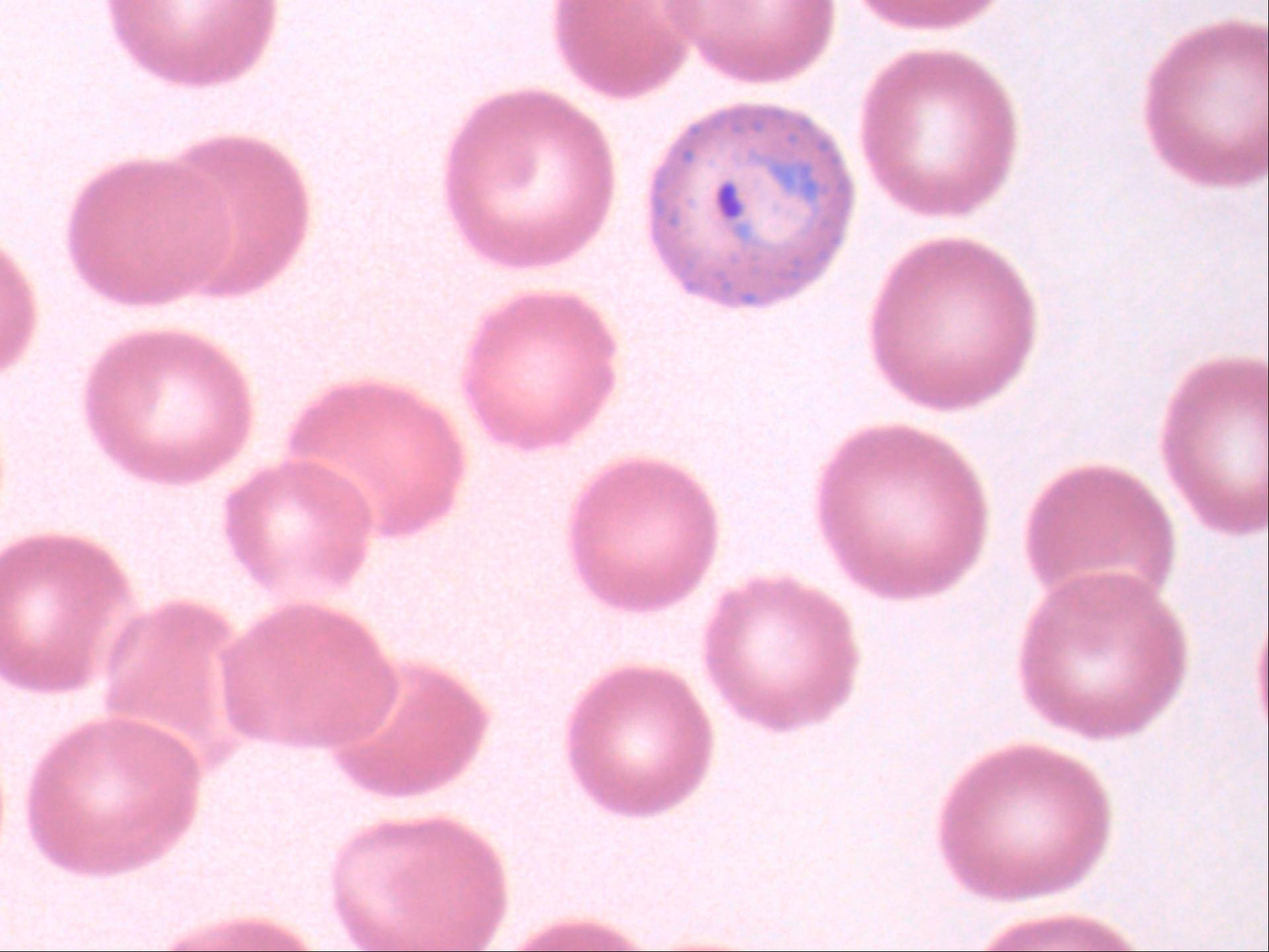Infected: (417, 643, 619, 846)
Uninfected: (654, 686, 822, 858), (232, 542, 397, 712), (282, 356, 448, 523), (83, 213, 248, 380), (1065, 73, 1239, 229), (868, 201, 1044, 346), (809, 418, 978, 568), (1017, 468, 1182, 620), (1032, 649, 1198, 798), (161, 52, 324, 203), (252, 740, 405, 900), (551, 131, 699, 291), (652, 504, 803, 655), (414, 217, 560, 372), (767, 1, 937, 131), (1030, 192, 1169, 350), (557, 342, 701, 488), (962, 661, 1093, 814), (787, 154, 933, 289), (1141, 261, 1269, 412), (898, 357, 1042, 489), (0, 766, 120, 922), (98, 357, 242, 484), (1, 421, 106, 584), (994, 866, 1157, 947), (582, 854, 707, 951), (438, 870, 584, 950)
